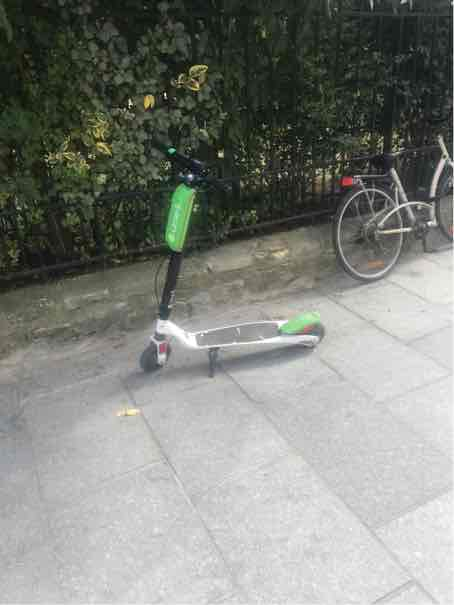scooter: (130, 139, 327, 386)
